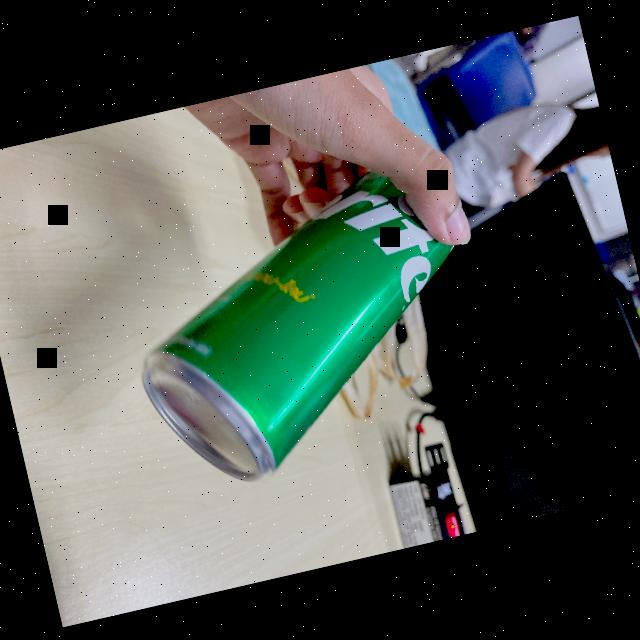can: (90, 127, 516, 518)
